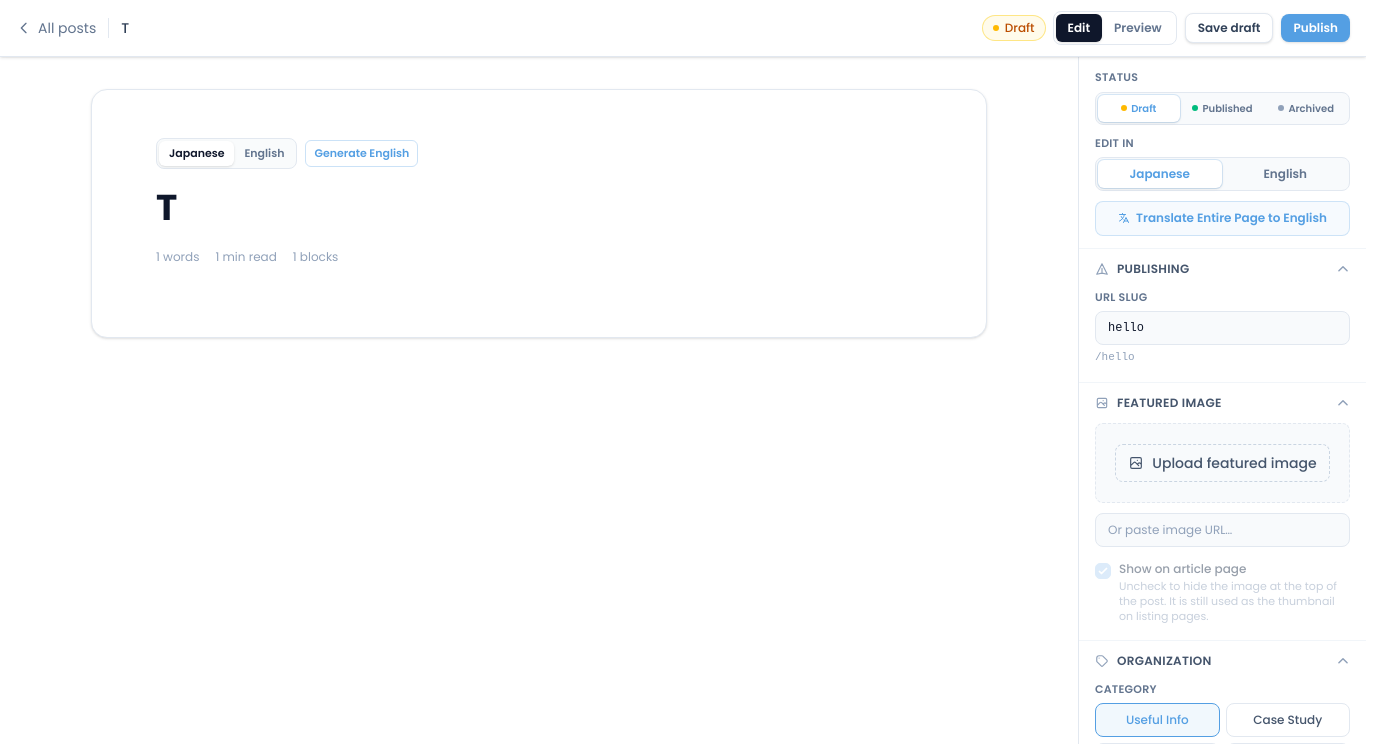
Test: PostEditor › swallows autosave failures (no alert)
Replace the text in the text box showing "T" with "Tx" at (539, 207), box [156,184,922,230]
Wait 10050 ms
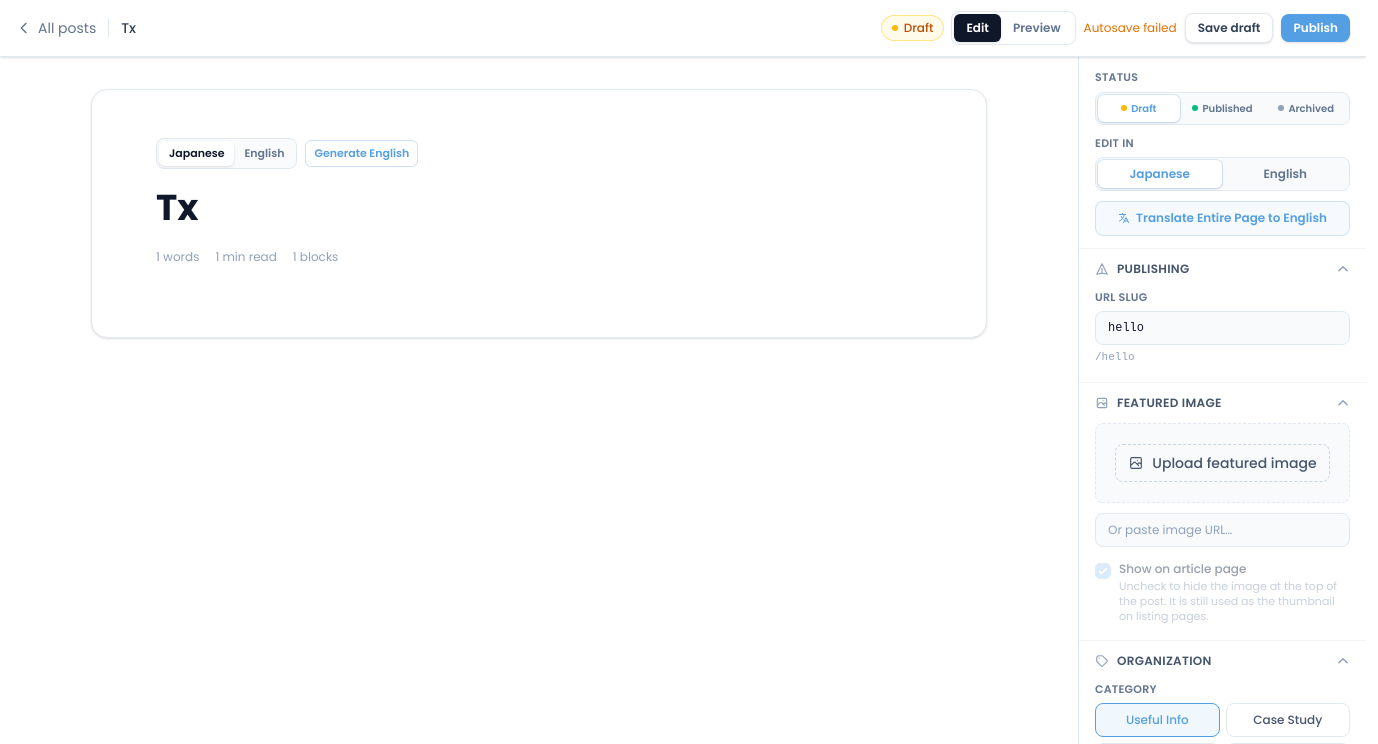
Check: the text "Autosave failed" is shown, box [1084,20,1177,36]
